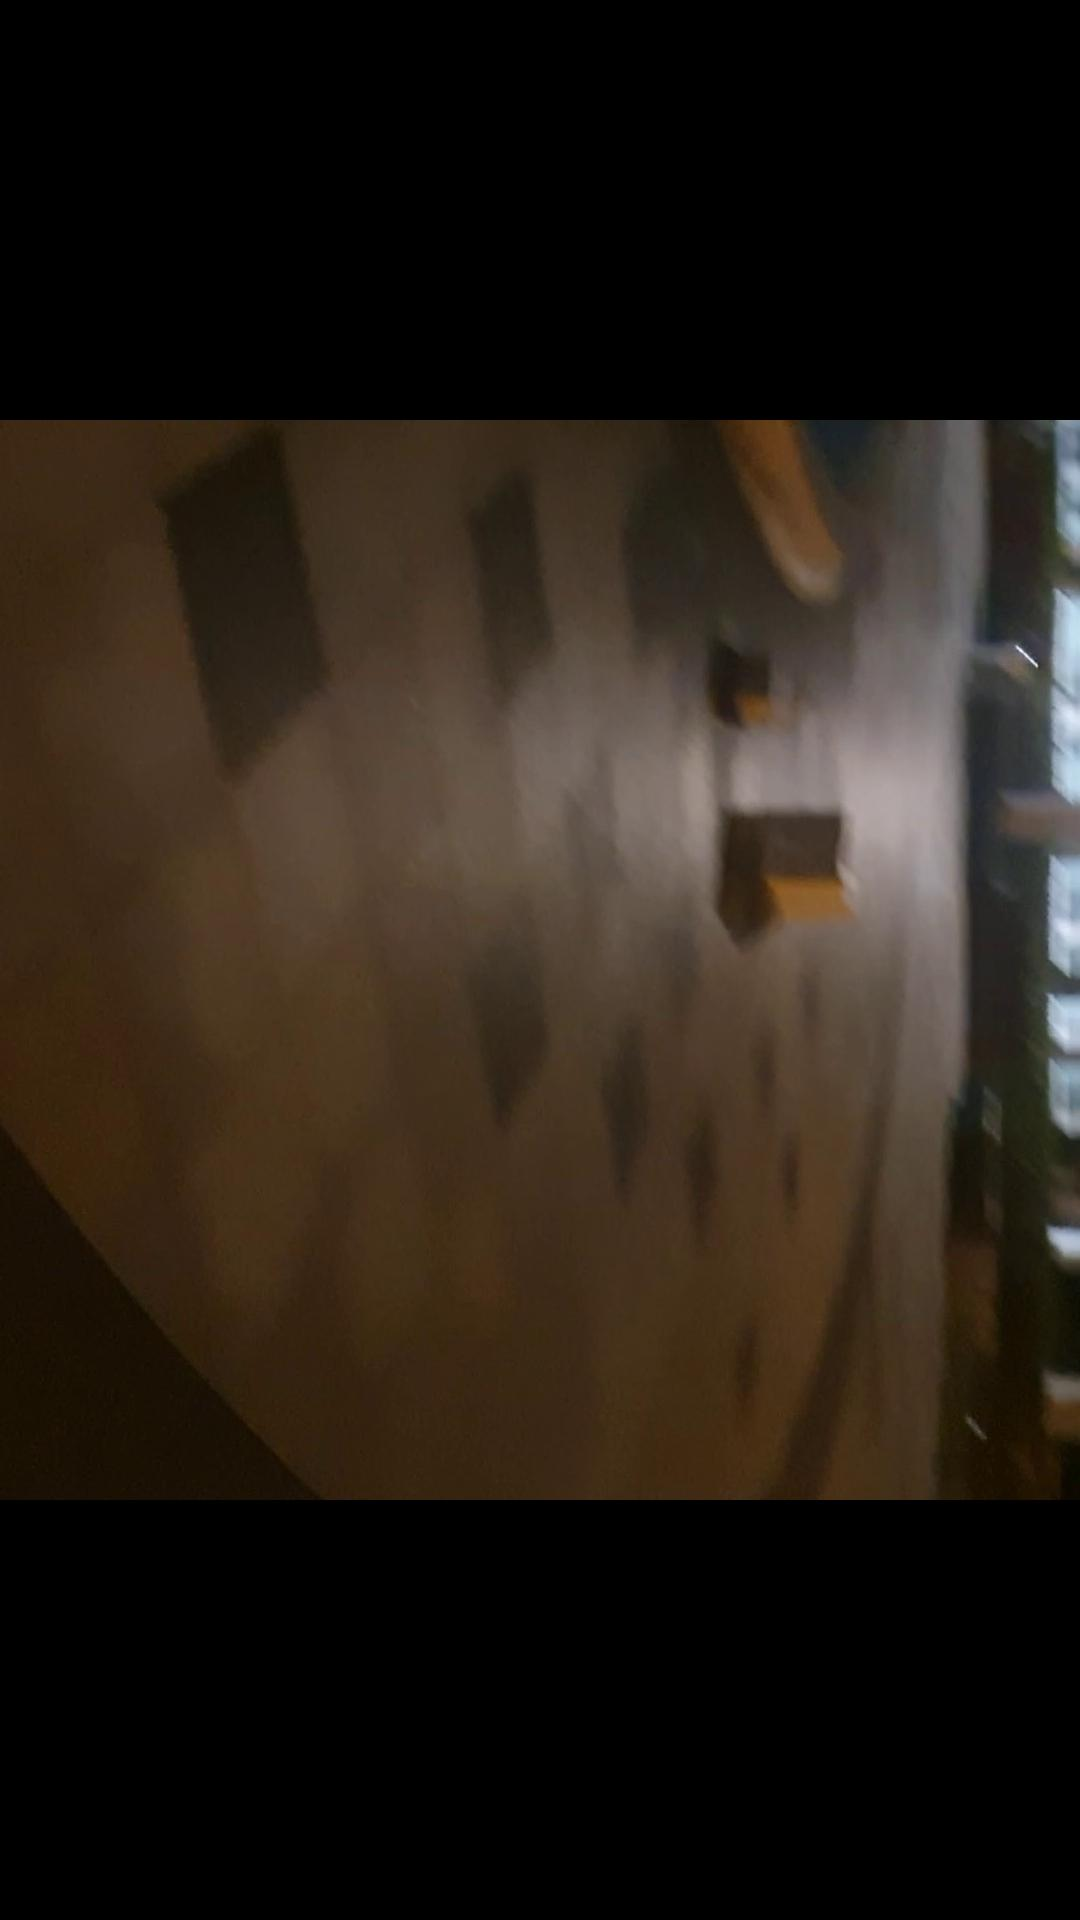Box: (740, 814, 860, 938), (720, 647, 785, 757)
